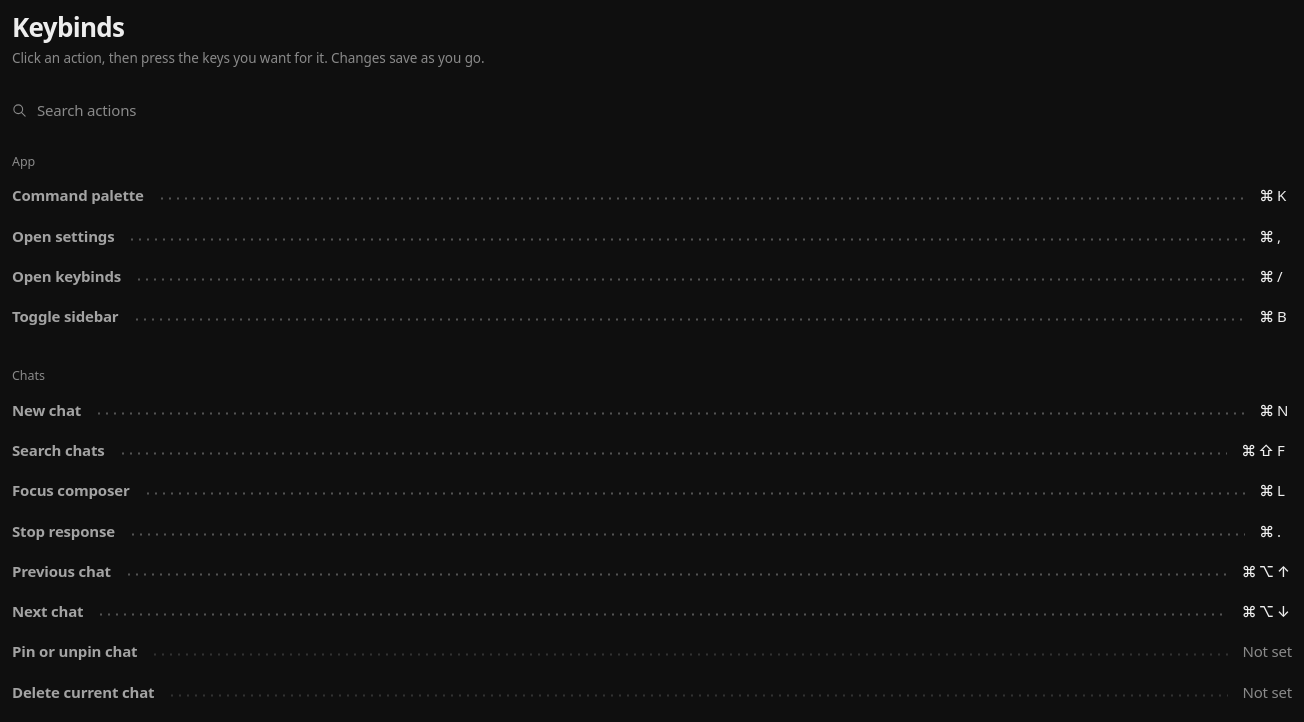
Scenario: keybind settings › restores every default from one reset action
Click the button named "Change Command palette keybind" at (1276, 196), box [1259,185,1292,206]
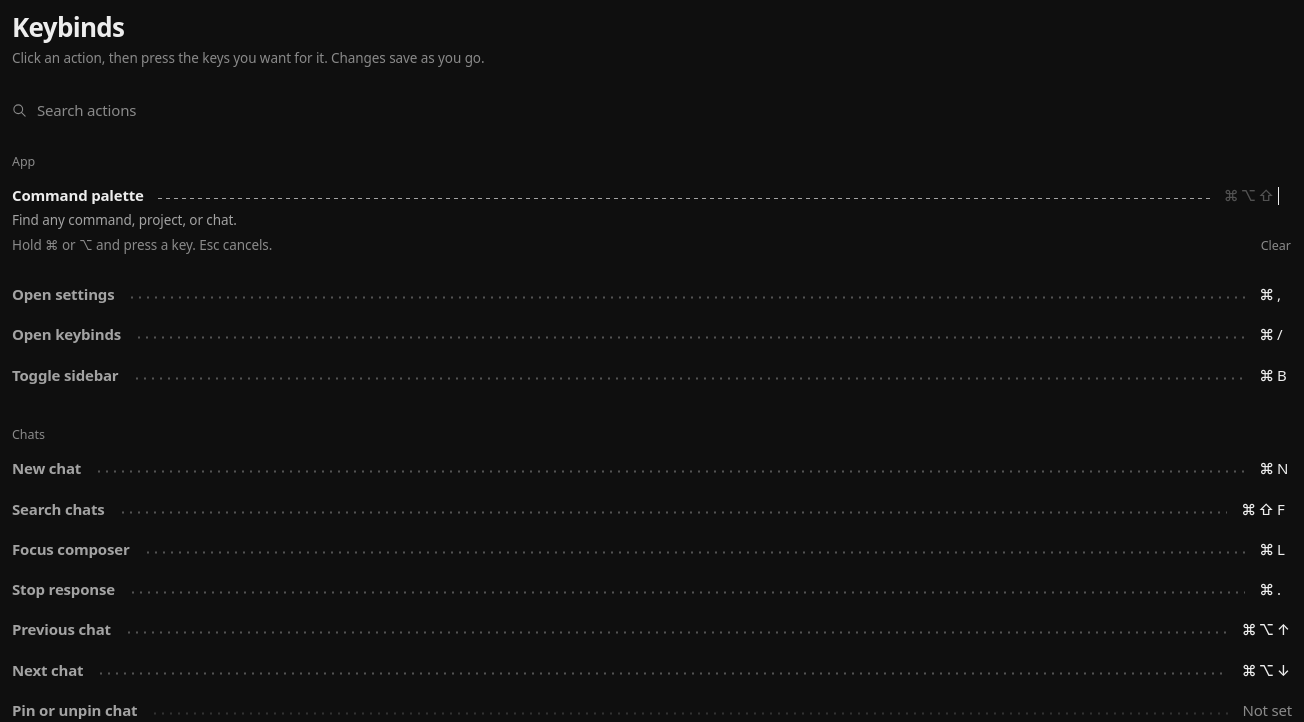
Press g in the button named "Change Command palette keybind", box [1224,185,1292,206]
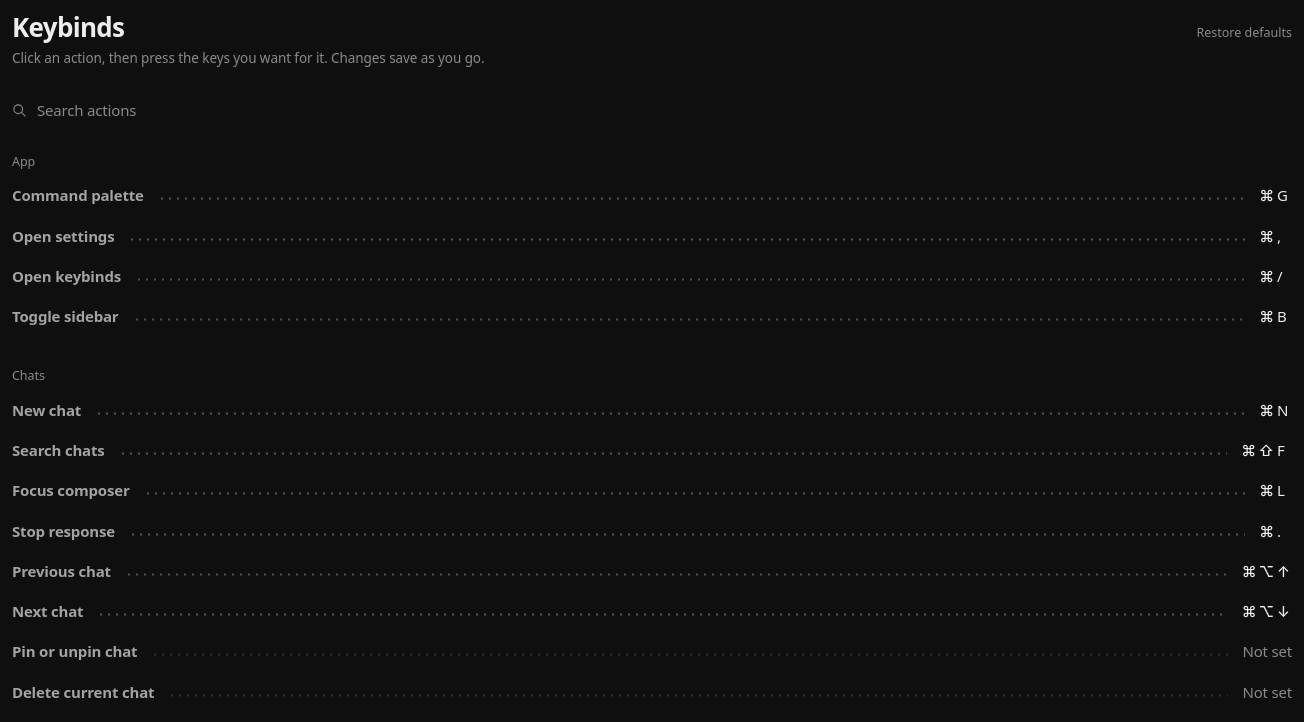
Click the button "Restore defaults" at (1244, 33), box [1196,23,1292,42]
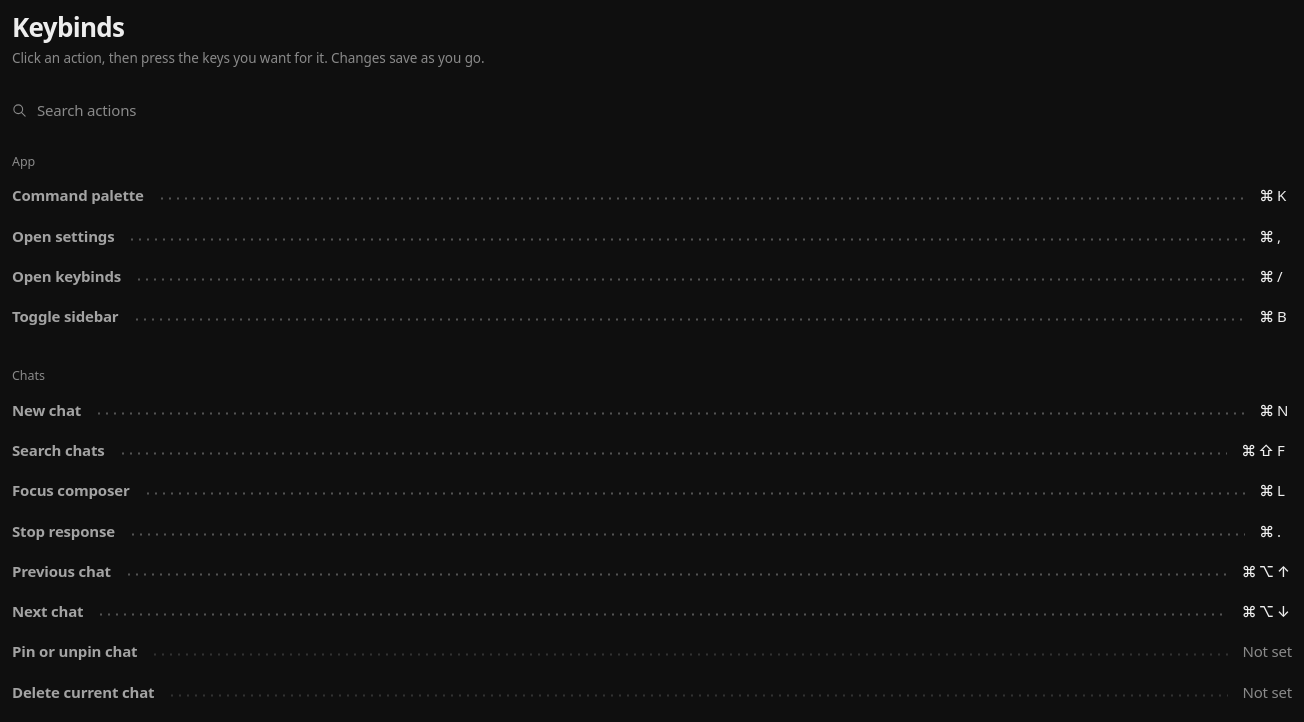
Result: the button "Restore defaults" is gone
